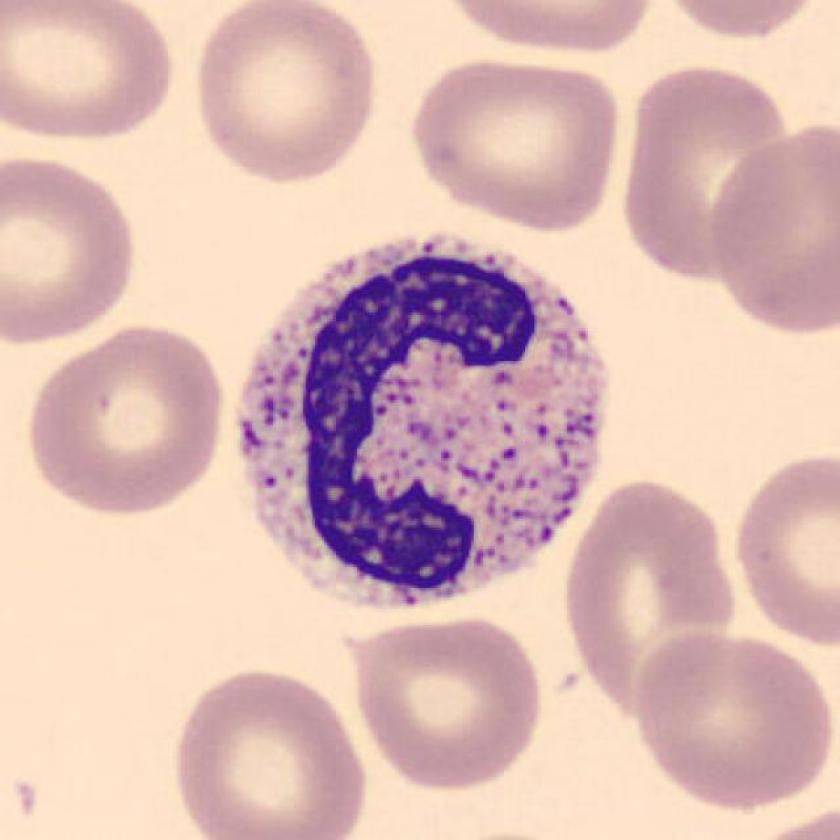neutrophil: (239, 236, 608, 605)
